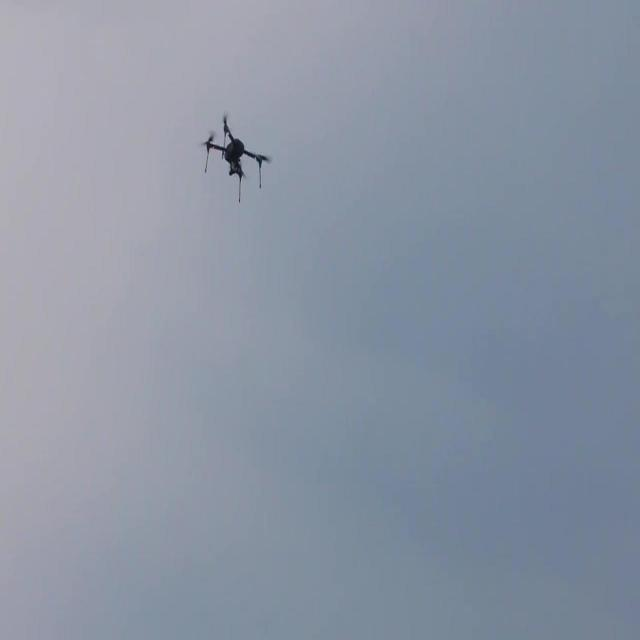UAV: (201, 112, 273, 204)
